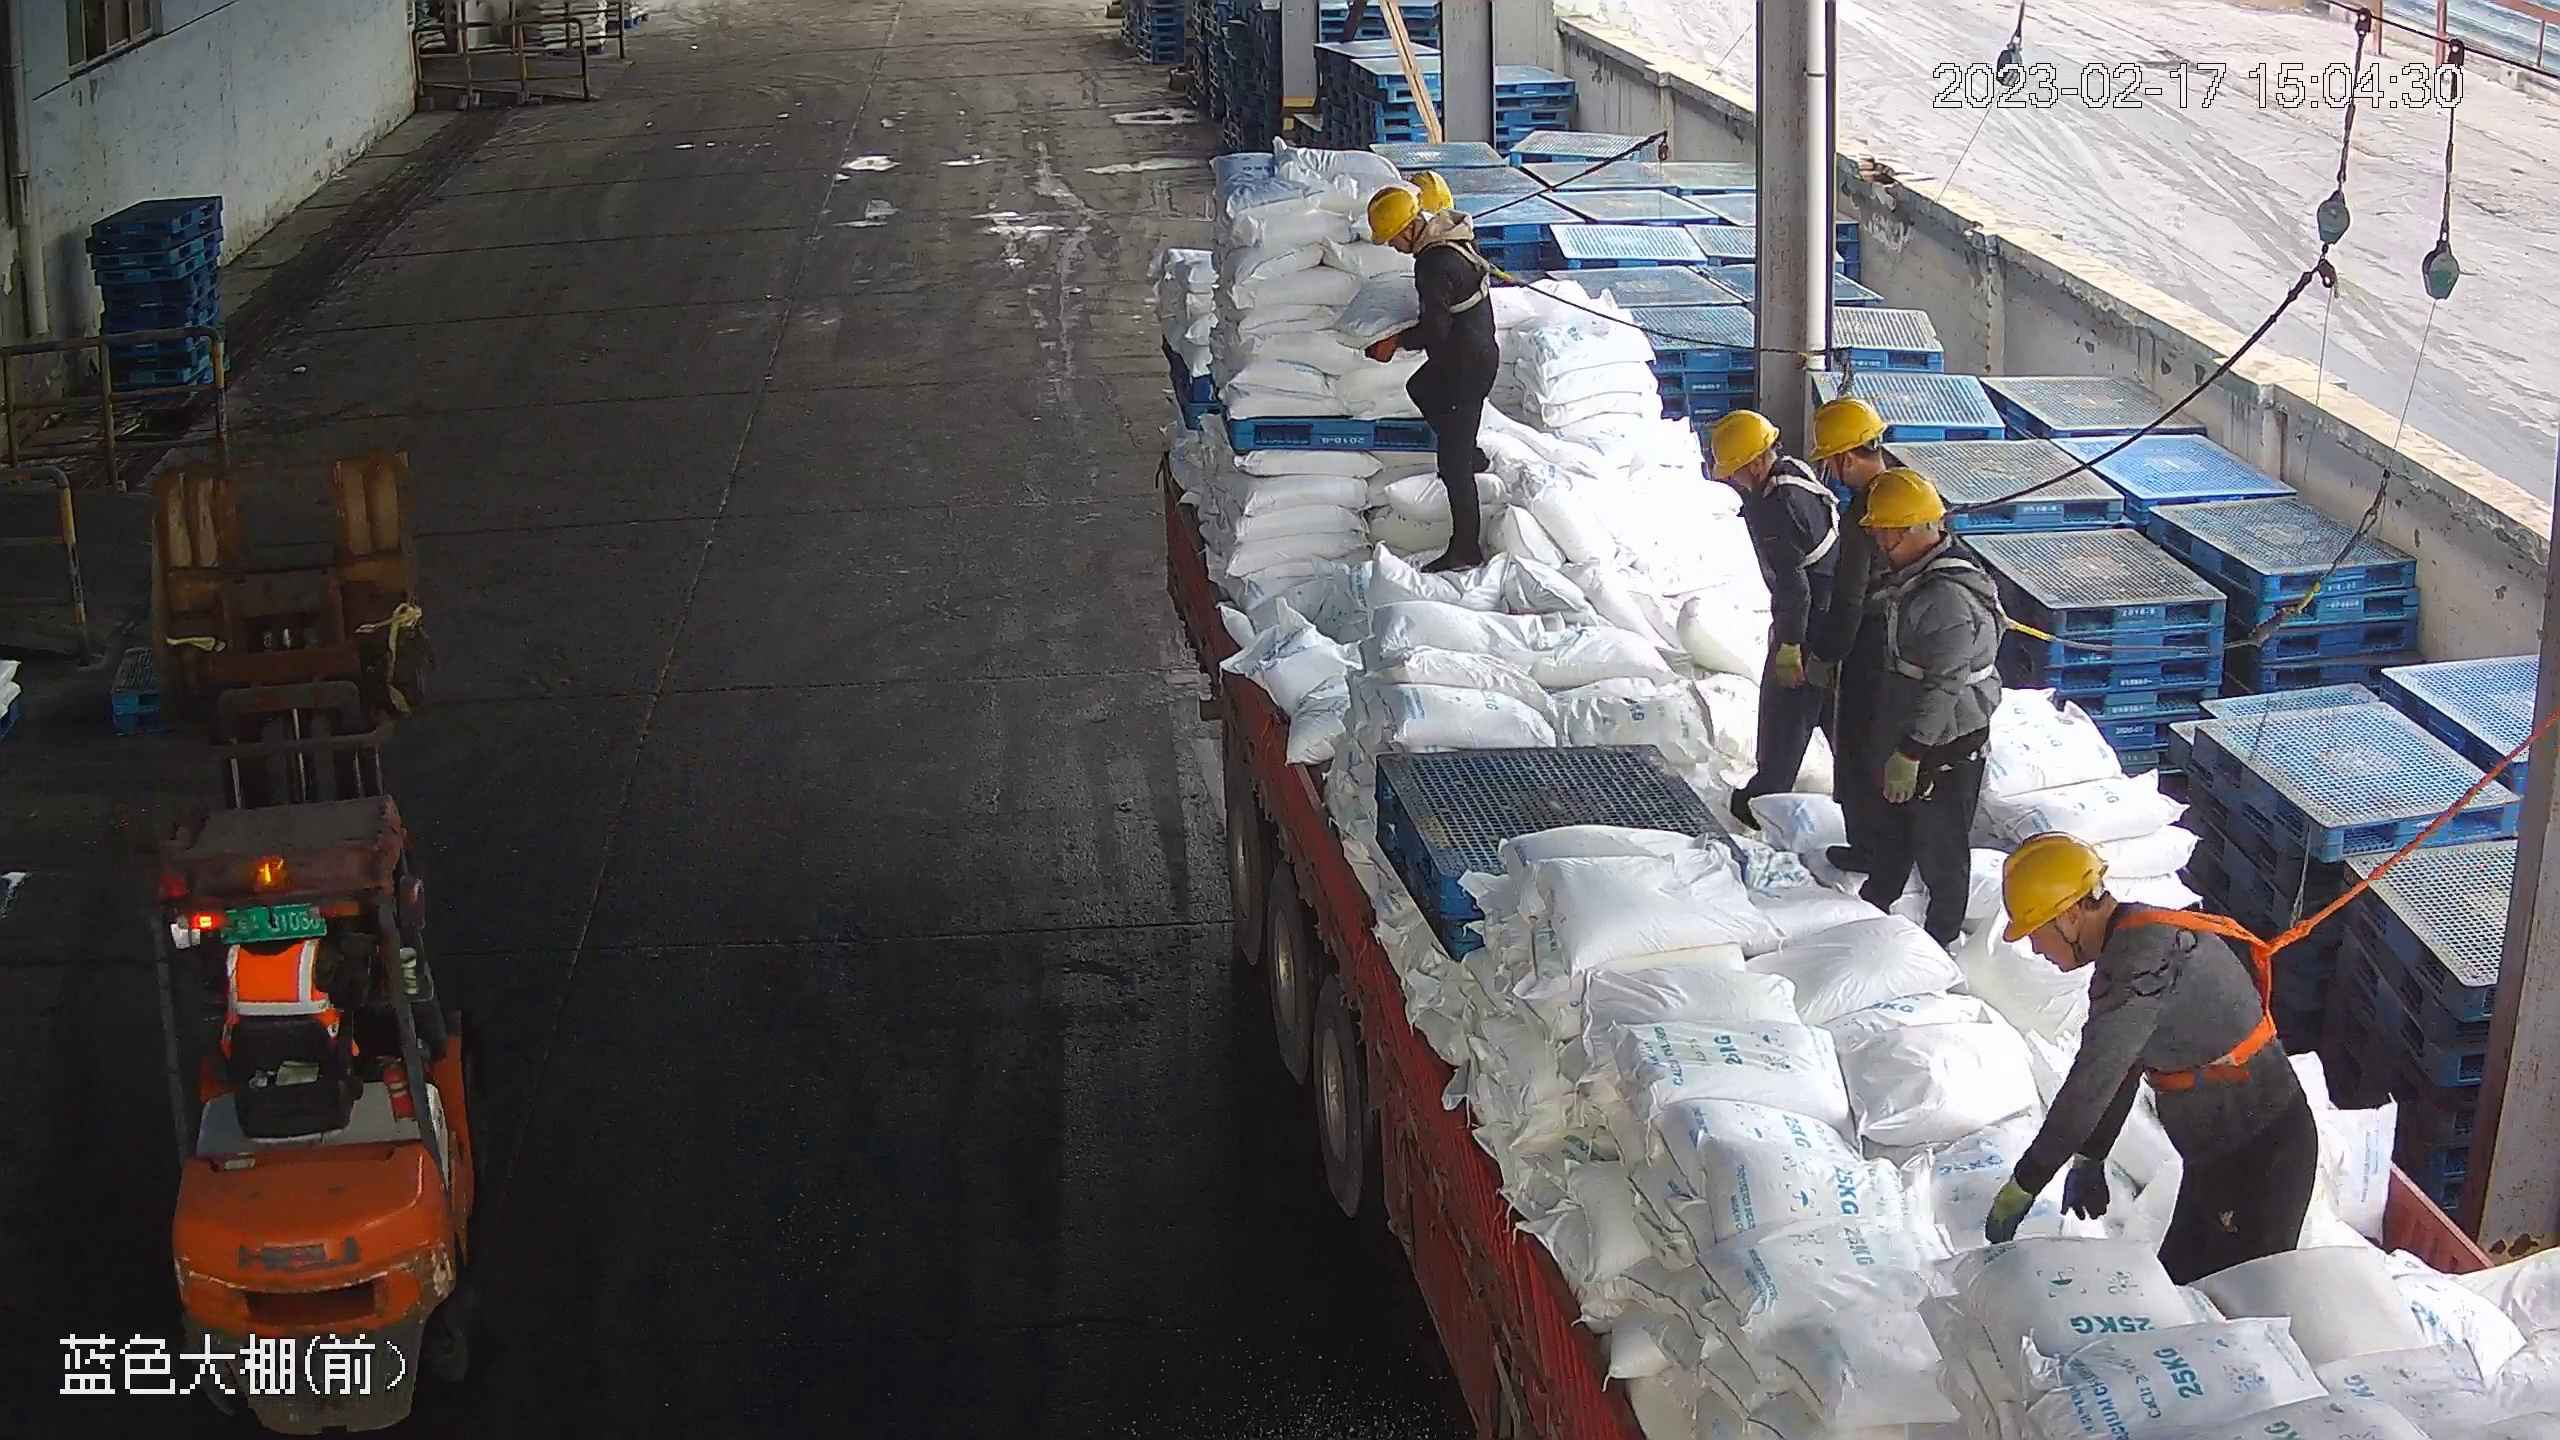belt: (2102, 892, 2305, 1093), (1881, 556, 2045, 697), (1754, 459, 1855, 571), (1419, 226, 1509, 316)
head: (2001, 833, 2215, 1006), (1847, 463, 1993, 626), (1703, 407, 1834, 543), (1363, 180, 1487, 290)
helmet: (2000, 831, 2110, 943), (1856, 466, 1949, 532), (1808, 393, 1888, 464), (1703, 406, 1778, 478), (1365, 184, 1422, 245)
people: (1976, 825, 2321, 1281), (1834, 452, 2001, 951), (1702, 402, 1855, 842), (1359, 178, 1506, 575)
truck: (1157, 488, 2541, 1433)
